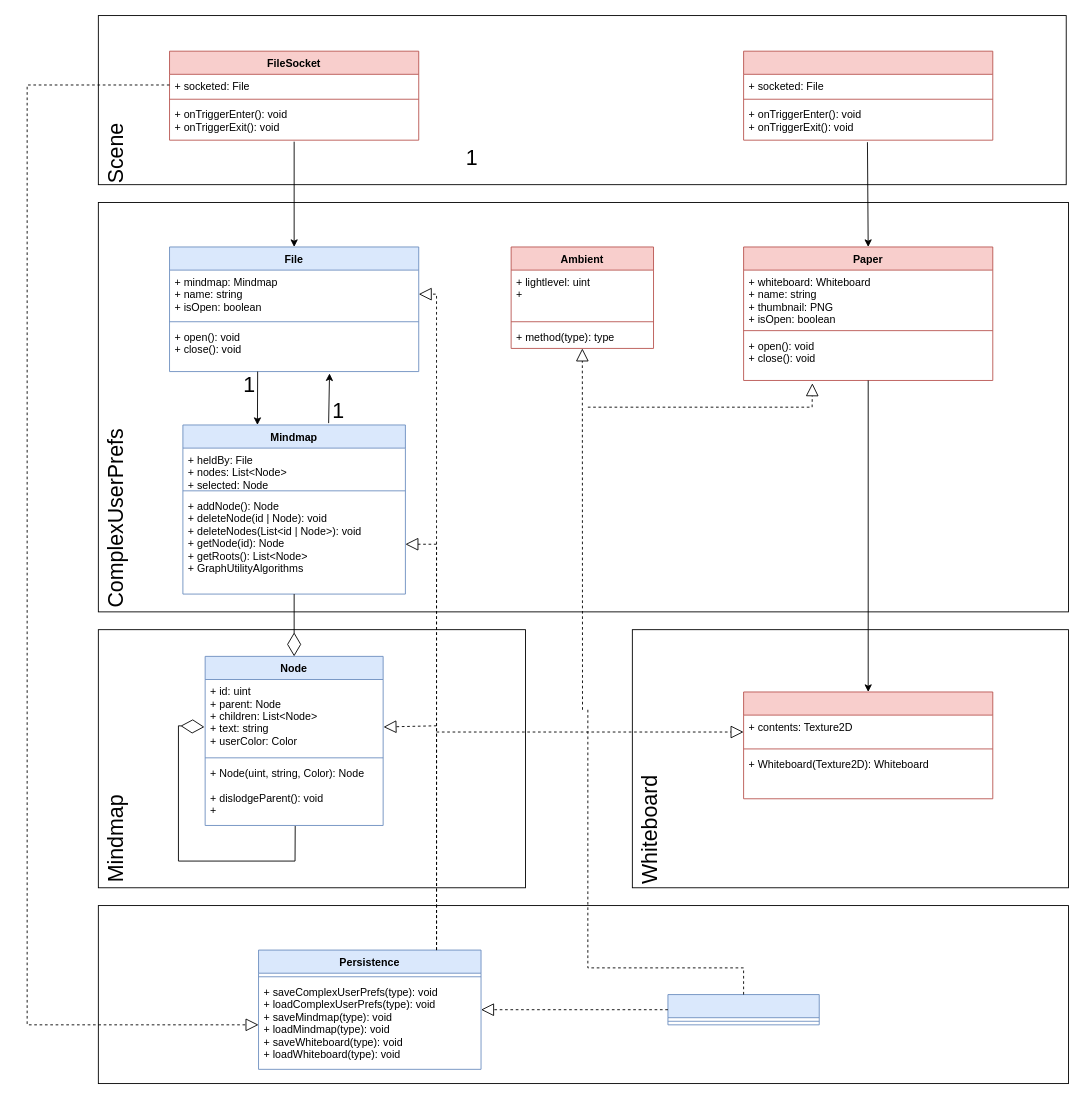
This 1084x1099 diagram has some shape labels left out. The box of each missing label's shape, as (x1, y1, x2, y2) in pixels:
PaperSocket: (743, 50, 993, 140)
UI: (667, 994, 819, 1025)
Whitebord: (743, 691, 993, 799)
